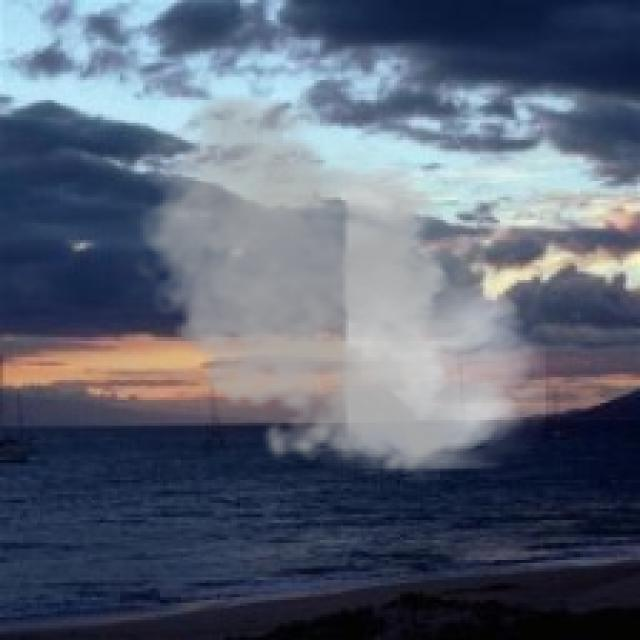smoke: (123, 86, 546, 486)
